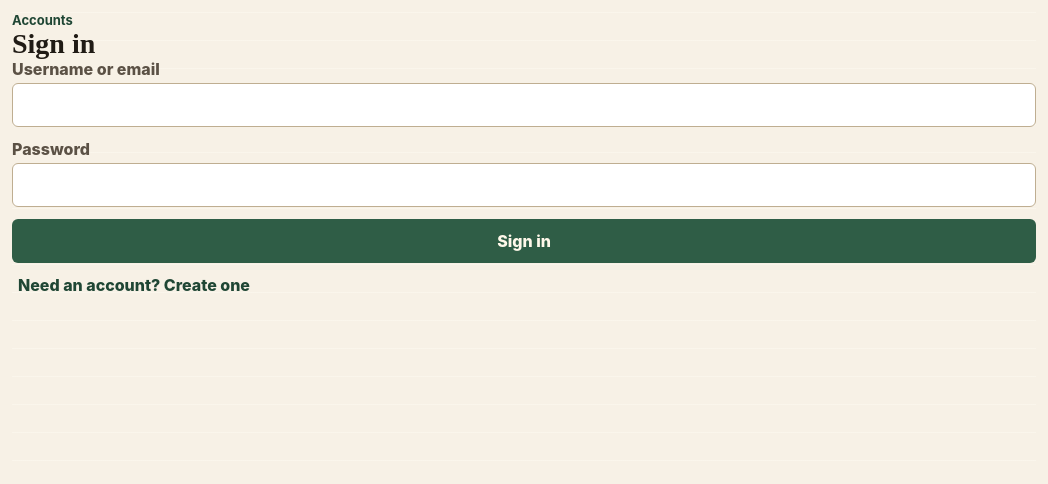
Test: AuthForm › switches between register and sign-in modes
Click the button "Need an account? Create one" at (134, 285), box [12,263,256,307]
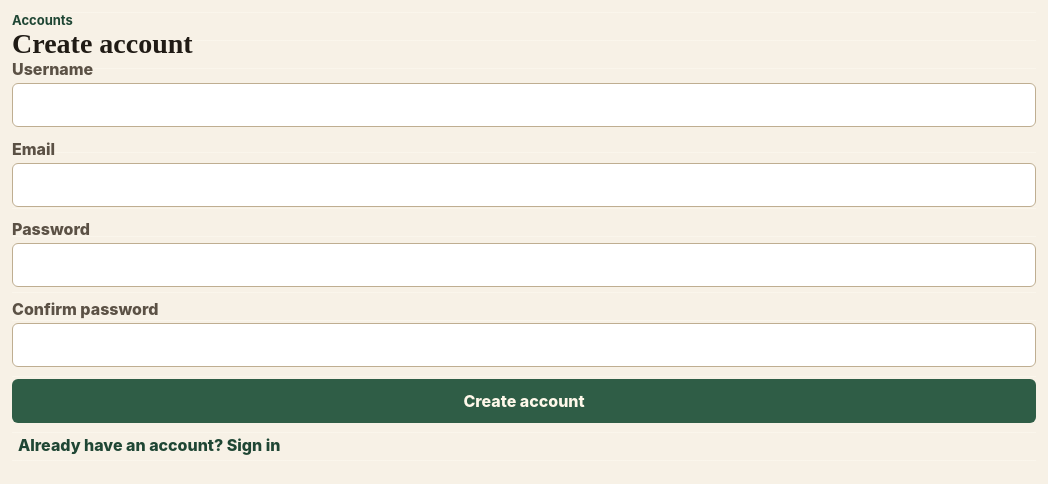
Result: the heading "Create account" is shown at [12,28,193,59]
Click the button "Already have an account? Sign in" at (149, 445), box [12,423,286,467]
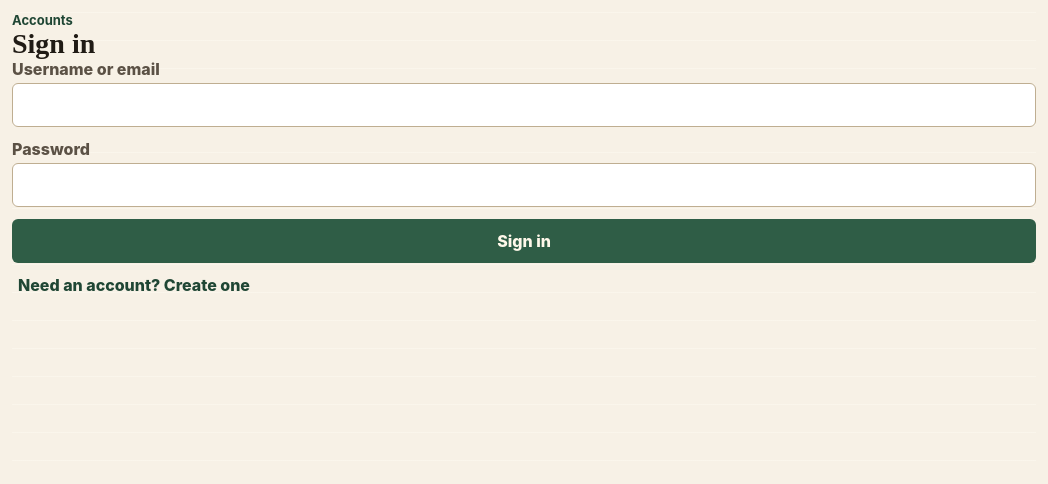
Result: the heading "Sign in" is shown at [12,28,95,59]
